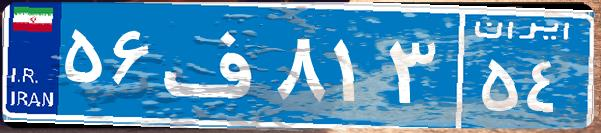1: (330, 28, 385, 110)
3: (385, 28, 445, 110)
4: (525, 38, 570, 115)
5: (57, 26, 110, 107), (475, 38, 525, 113)
6: (110, 28, 158, 105)
8: (273, 28, 330, 110)
ف: (158, 15, 273, 115)
